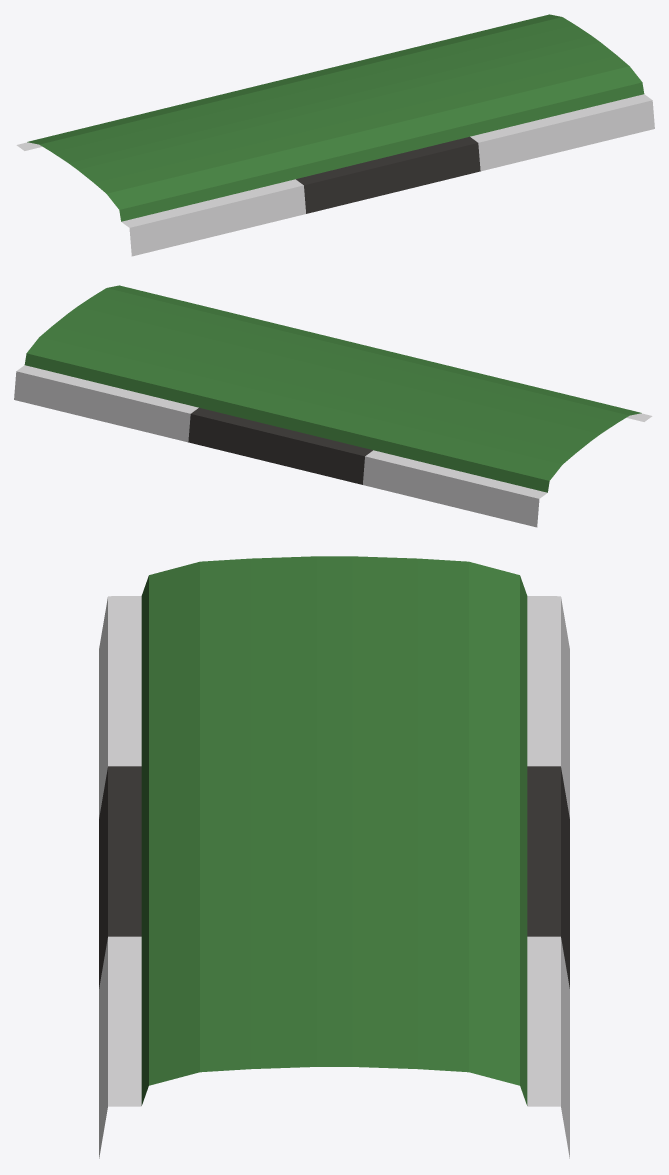
File: SM_Factory_Green_space_Middle.glb
3 views of the same model, one above another, from view 1: azimuth 30°, elevation 25°; view 2: azimuth 150°, elevation 25°; view 3: azimuth 270°, elevation 25° (orthographic). The views are drawn at different scales.
Visible parts, largest first — view 1: SM_Factory_Green_space_Middle; view 2: SM_Factory_Green_space_Middle; view 3: SM_Factory_Green_space_Middle.
Part boxes in pixels (left/top/right/bottom): SM_Factory_Green_space_Middle: left=16, top=14, right=654, bottom=256; SM_Factory_Green_space_Middle: left=14, top=285, right=652, bottom=527; SM_Factory_Green_space_Middle: left=99, top=556, right=569, bottom=1158.
Bounding box in the file's own units: 5 × 0.4281 × 1.95.
Materials: 1 (1 with a texture image).
